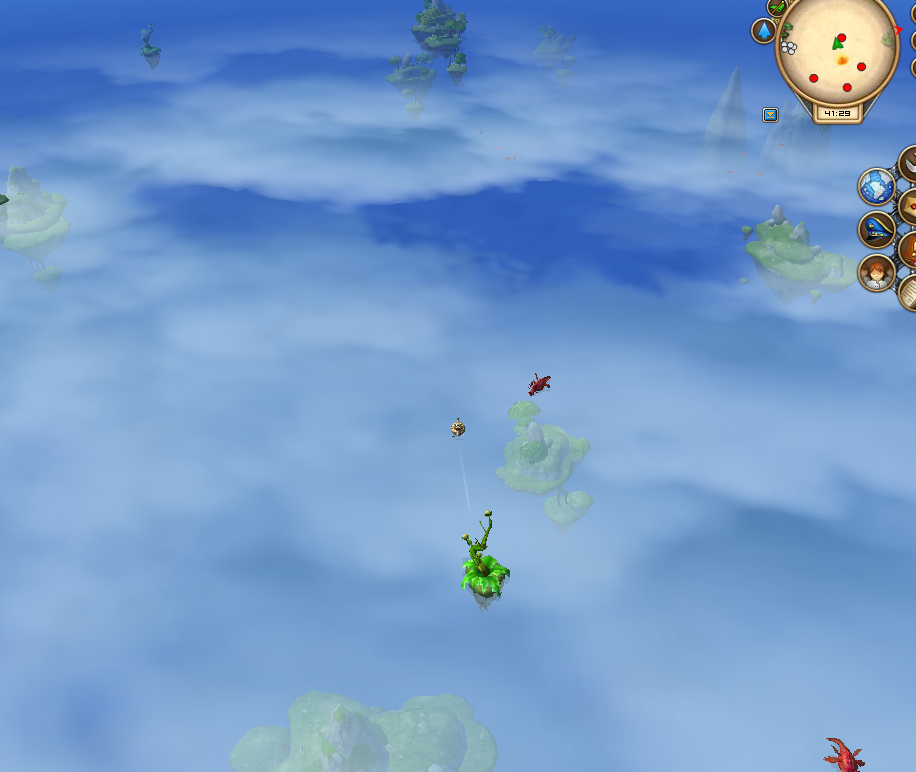dandelion-empty: (458, 506, 514, 611)
dandelion-full: (136, 19, 163, 69)
